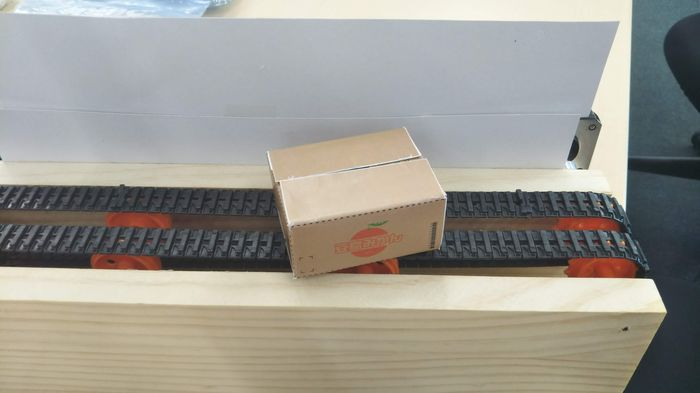box1: (264, 125, 451, 281)
